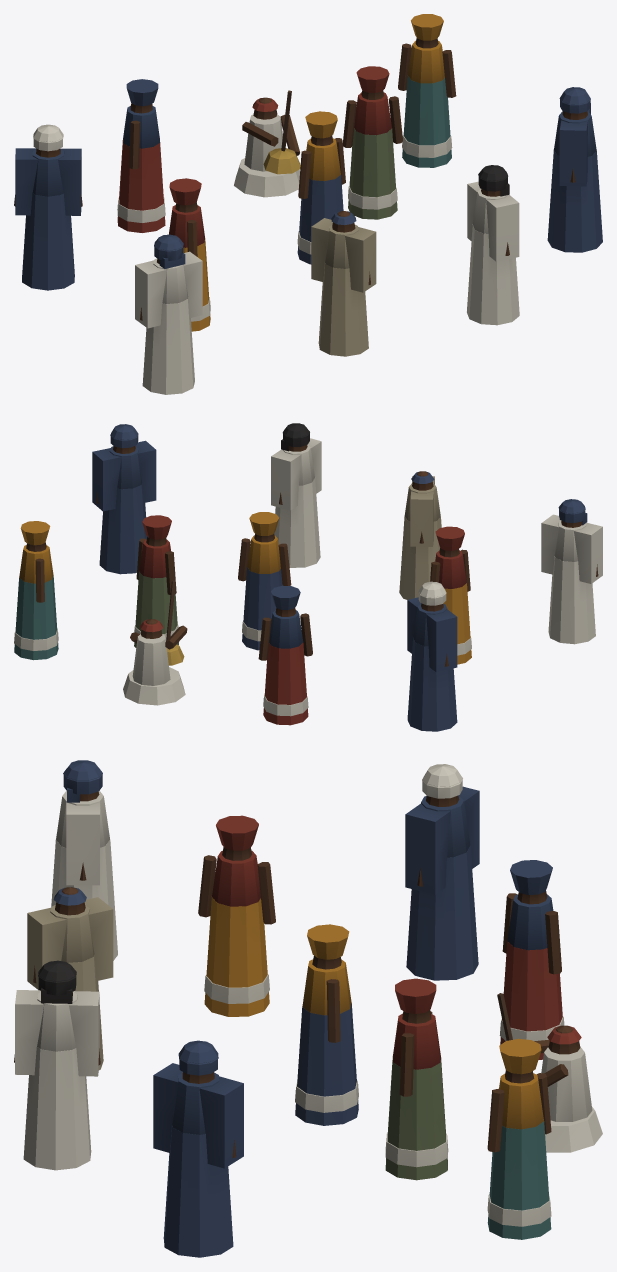
The model's file is crowd.glb.
3 renders of one model, top to bottom at view 1: azimuth 30°, elevation 25°; view 2: azimuth 150°, elevation 25°; view 3: azimuth 270°, elevation 25°, orthographic. The views are drawn at different scales.
Parts seen in each view (by area): view 1: base; view 2: base; view 3: base.
Boxes of the visible parts, x1,y1,x2,y2 form: base: (14,14,602,394); base: (14,423,602,731); base: (14,760,602,1257).
Size of the model in its own units: 5.94 by 1.71 by 4.59.
